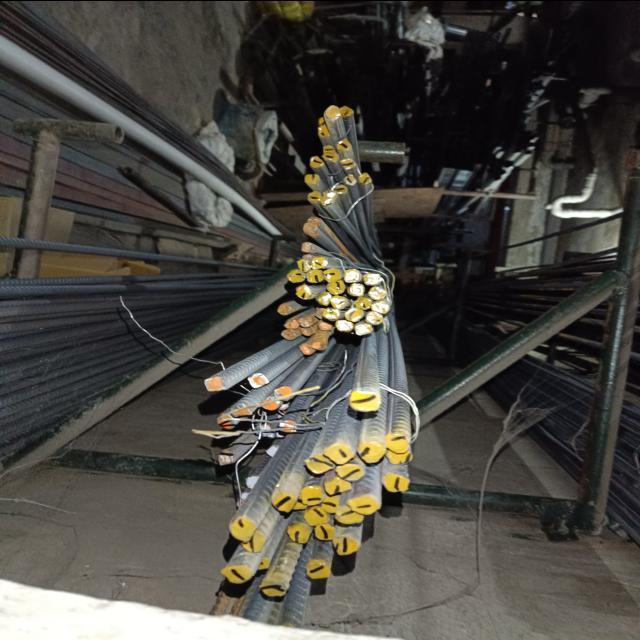Rebar: (354, 394, 382, 411), (244, 535, 268, 551), (234, 522, 258, 538), (227, 566, 251, 582), (265, 581, 289, 597), (364, 445, 385, 463), (328, 446, 351, 462), (339, 508, 362, 524), (337, 537, 360, 553), (309, 562, 332, 578), (305, 509, 329, 524), (389, 434, 408, 452), (387, 477, 409, 491), (311, 457, 333, 471), (326, 480, 348, 494), (304, 489, 324, 504), (291, 525, 311, 540), (275, 497, 295, 512), (342, 466, 363, 480), (355, 498, 376, 512), (317, 526, 335, 541), (390, 452, 410, 464), (324, 498, 340, 513), (283, 421, 297, 434), (276, 388, 290, 401), (265, 398, 279, 411), (234, 407, 248, 420), (219, 416, 233, 429), (251, 373, 265, 386), (210, 378, 224, 391), (257, 558, 271, 570), (291, 273, 305, 283), (299, 288, 313, 298), (326, 310, 340, 320), (338, 322, 352, 332), (357, 324, 371, 334), (369, 314, 383, 324), (349, 310, 363, 320), (357, 299, 371, 309), (374, 302, 388, 312), (371, 289, 385, 299), (367, 274, 381, 284), (351, 286, 365, 296), (346, 272, 360, 282), (329, 283, 343, 293), (326, 269, 340, 279), (334, 297, 348, 307), (319, 294, 333, 304), (329, 108, 341, 118), (300, 318, 310, 327), (321, 127, 330, 137), (319, 117, 328, 127), (302, 345, 310, 356), (314, 342, 324, 350), (285, 332, 295, 340), (289, 321, 299, 329), (281, 306, 291, 314), (305, 329, 315, 337), (303, 243, 313, 251), (306, 225, 316, 233), (312, 218, 322, 226), (324, 198, 334, 206), (311, 193, 321, 201), (326, 191, 336, 199), (339, 186, 349, 194), (348, 177, 358, 185), (362, 175, 372, 183), (345, 159, 355, 167), (328, 154, 338, 162), (313, 159, 323, 167), (309, 176, 319, 184), (327, 146, 337, 154), (340, 141, 350, 149), (343, 108, 353, 116)
